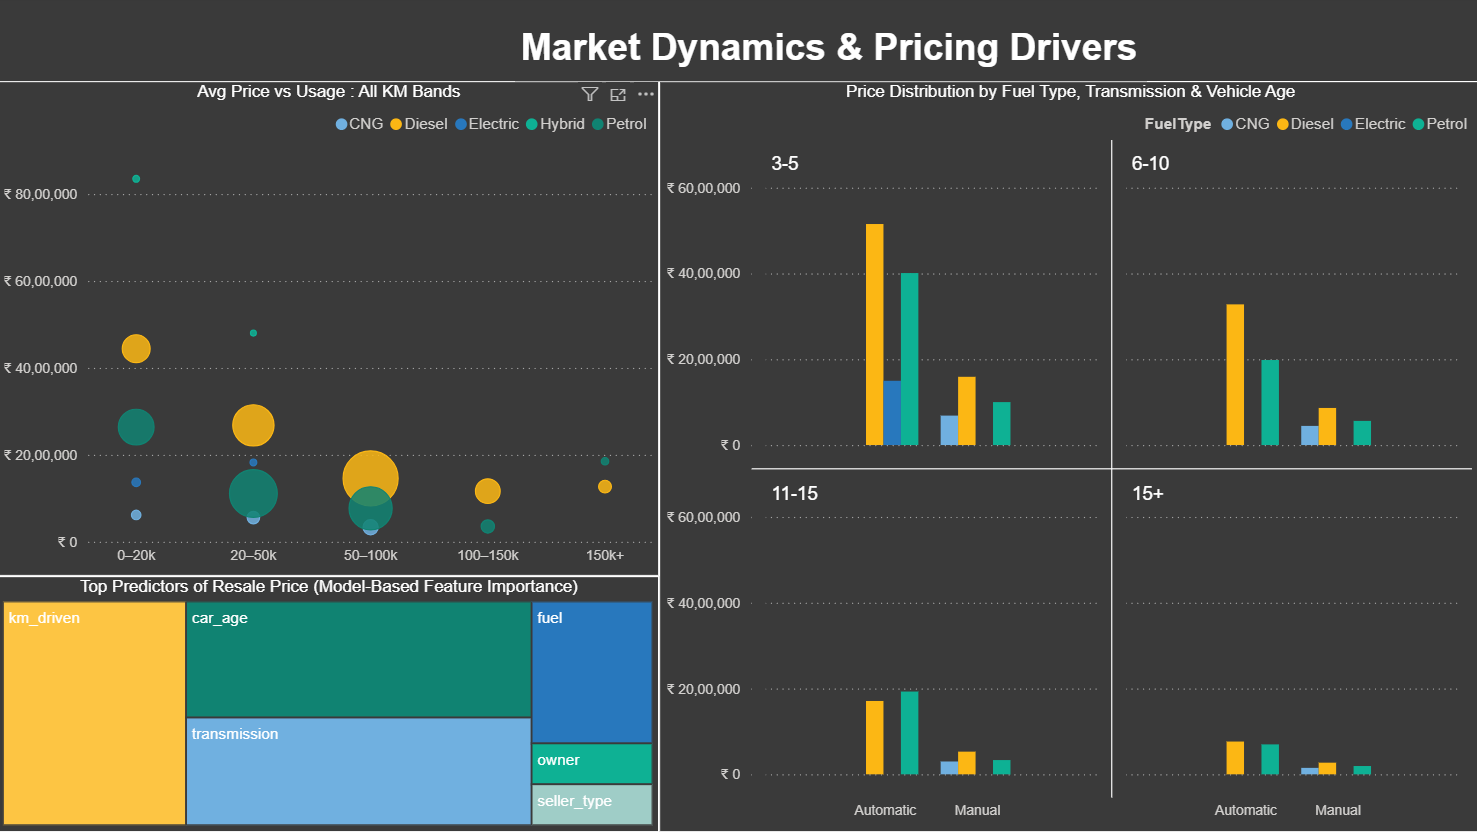

Layout of this report page (visuals, bound fields, positions):
{"tool":"powerbi","page":{"name":"Market Dynamics","canvas":[1280,720],"ordinal":2},"visuals":[{"type":"scatterChart","fields":{"Y":["Measures (2).Avg Price"],"Size":["Measures (2).Cars"],"X":["Dim_KMGroup.KMGroup"],"Series":["Fact_Cars.Fuel Type"]},"box":[0,72.7,572.2,426.8],"z":0},{"type":"clusteredColumnChart","title":"Price Distribution by Fuel Type, Transmission & Vehicle Age","fields":{"Category":["DimTransmission.Transmission"],"Y":["Measures (2).Avg Price"],"Rows":["Dim_Age.Car_Age_Group"],"Series":["Dim_Fuel.FuelType"]},"box":[572.2,72.7,708.1,647.7],"z":1000},{"type":"textbox","box":[447.3,20.6,544.8,52.1],"z":2000},{"type":"treemap","title":"Top Predictors of Resale Price (Model-Based Feature Importance)","fields":{"Group":["feature_importance.Feature Name"],"Values":["Sum(feature_importance.Importance Value)"]},"box":[0,499.5,572.2,220.9],"z":3000}]}

Visuals, with their boxes in screenshot pixels (x1, y1, x2, y2), scaled from the page's 1280x720 canvas onto the 1477x832 screenshot:
scatterChart - Measures (2).Avg Price x Measures (2).Cars: <box>0,84,660,577</box>
"Price Distribution by Fuel Type, Transmission & Vehicle Age" clusteredColumnChart: <box>660,84,1476,831</box>
textbox: <box>516,24,1145,84</box>
"Top Predictors of Resale Price (Model-Based Feature Importance)" treemap: <box>0,577,660,831</box>
